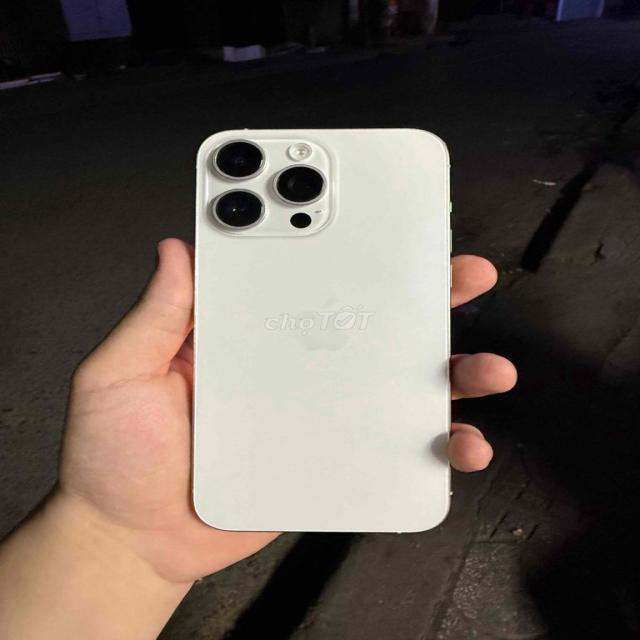gen_15: (178, 123, 475, 552)
